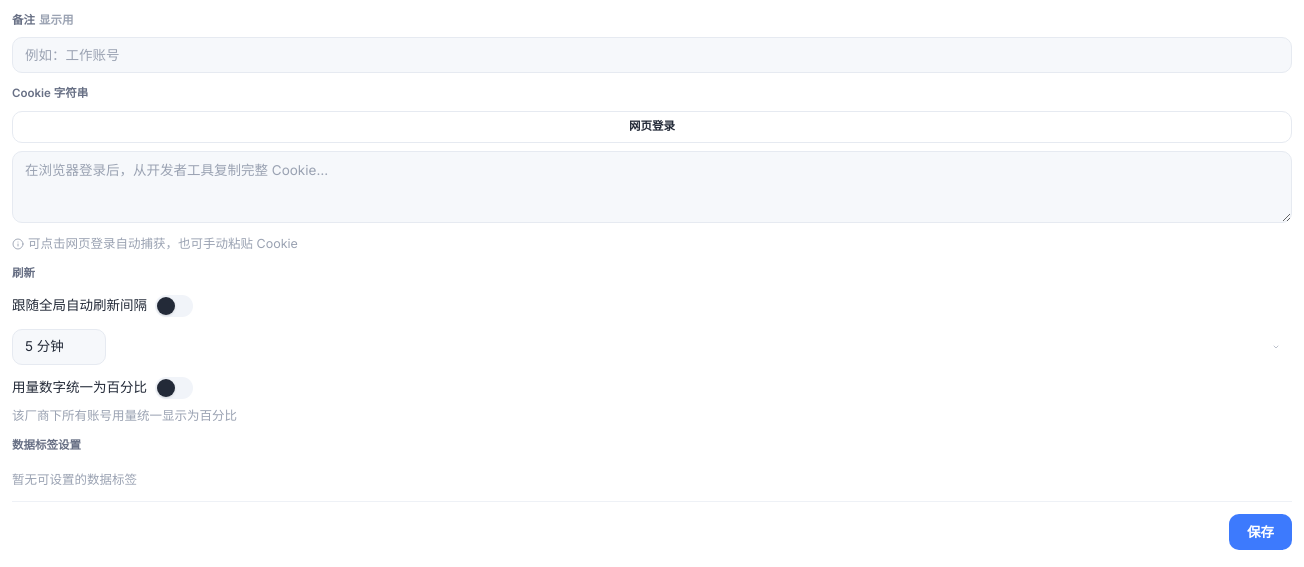
SettingsForm session editing (t157) › opens the controlled login window, polls status, and refreshes after capture
Click the button with test id "session-login-SESSION_COOKIE" at coordinates (652, 126), box [12,110,1292,142]
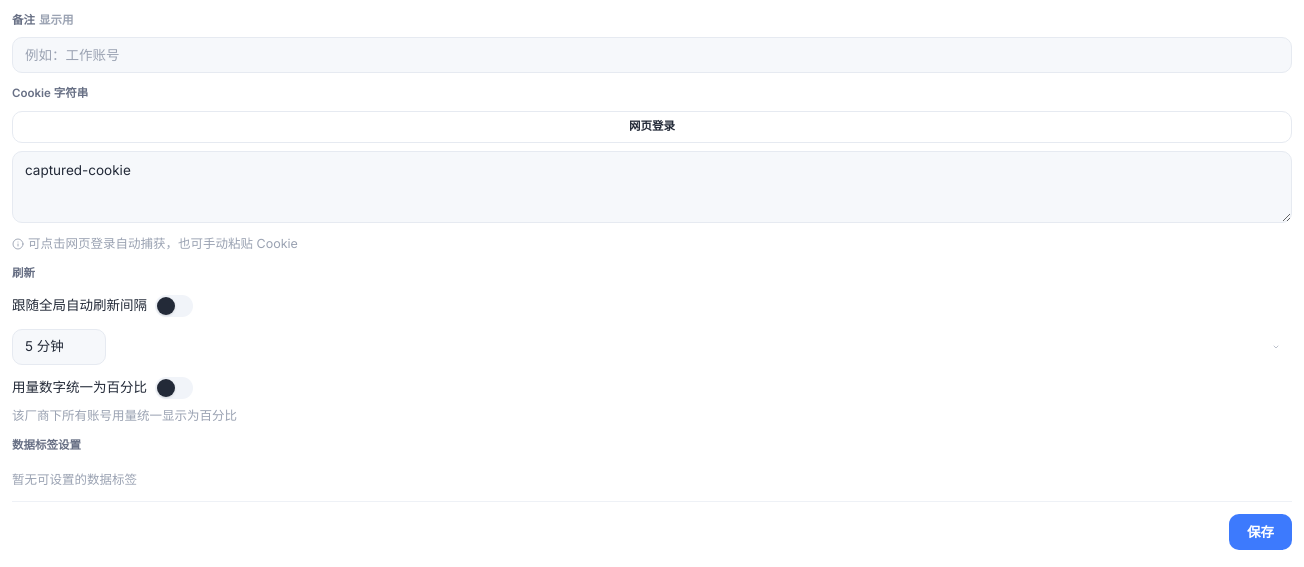
Now the text box showing "captured-cookie" is shown, box [12,150,1292,222]
